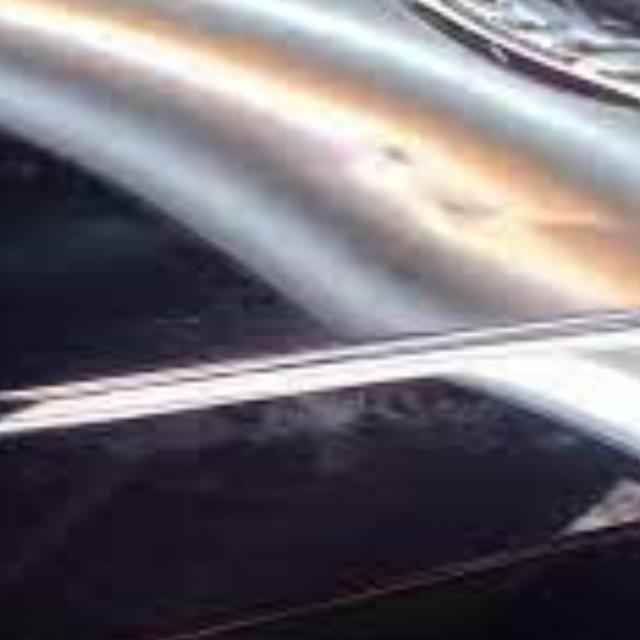dents: (527, 178, 633, 288), (402, 174, 528, 263), (372, 125, 436, 198)
